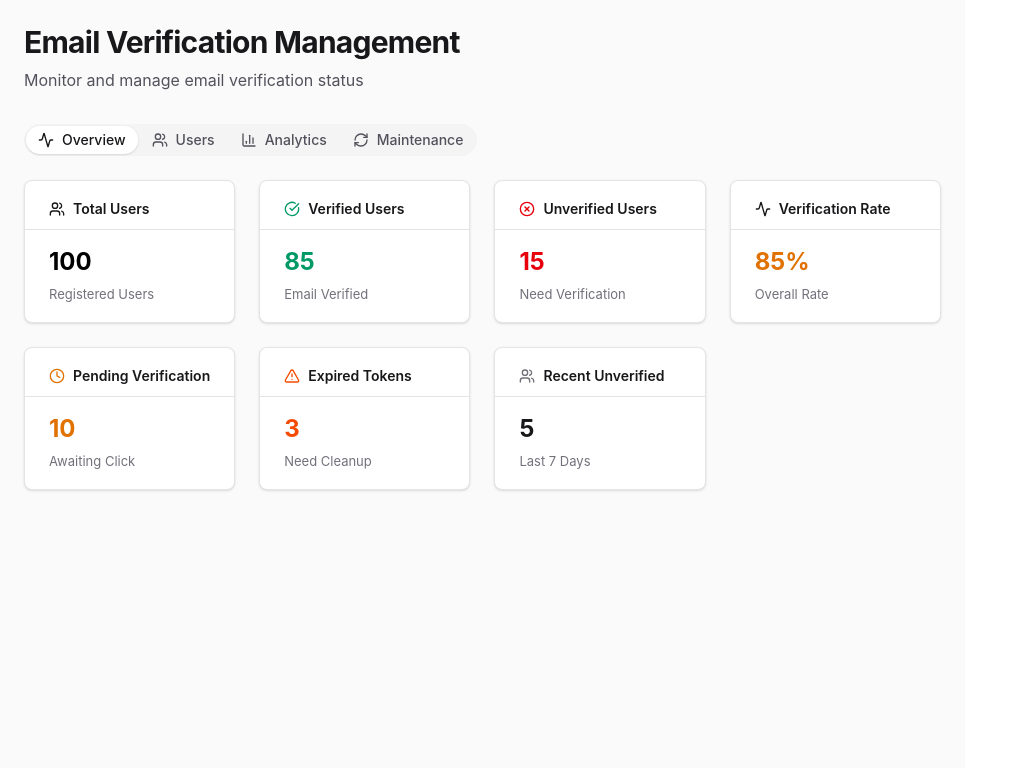
it: EmailVerificationManagement › Users Tab › should handle resend verification API error
Expected: the heading "Total Users" is shown, left=49, top=200, right=149, bottom=217
Click the button "Users".
click(183, 140)  # box left=140, top=126, right=227, bottom=154
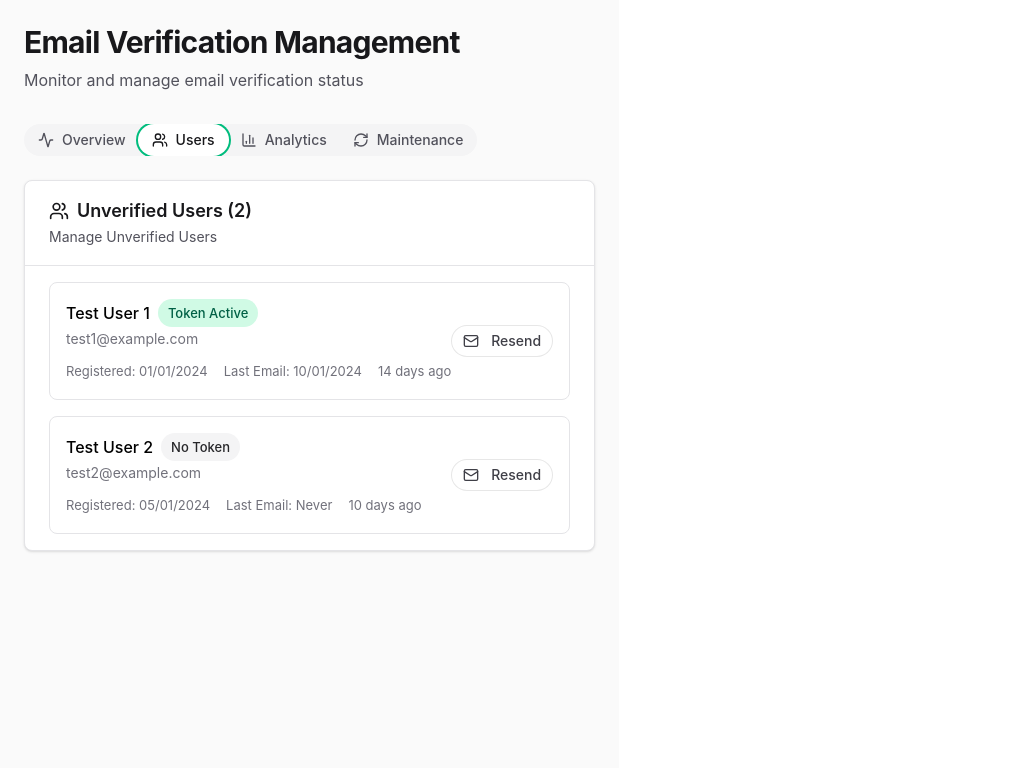
Expected: the heading "Test User 1" is shown, left=66, top=301, right=150, bottom=325
Click the button "Resend" in the row of "test1@example.com".
click(502, 341)  # box left=451, top=325, right=553, bottom=357
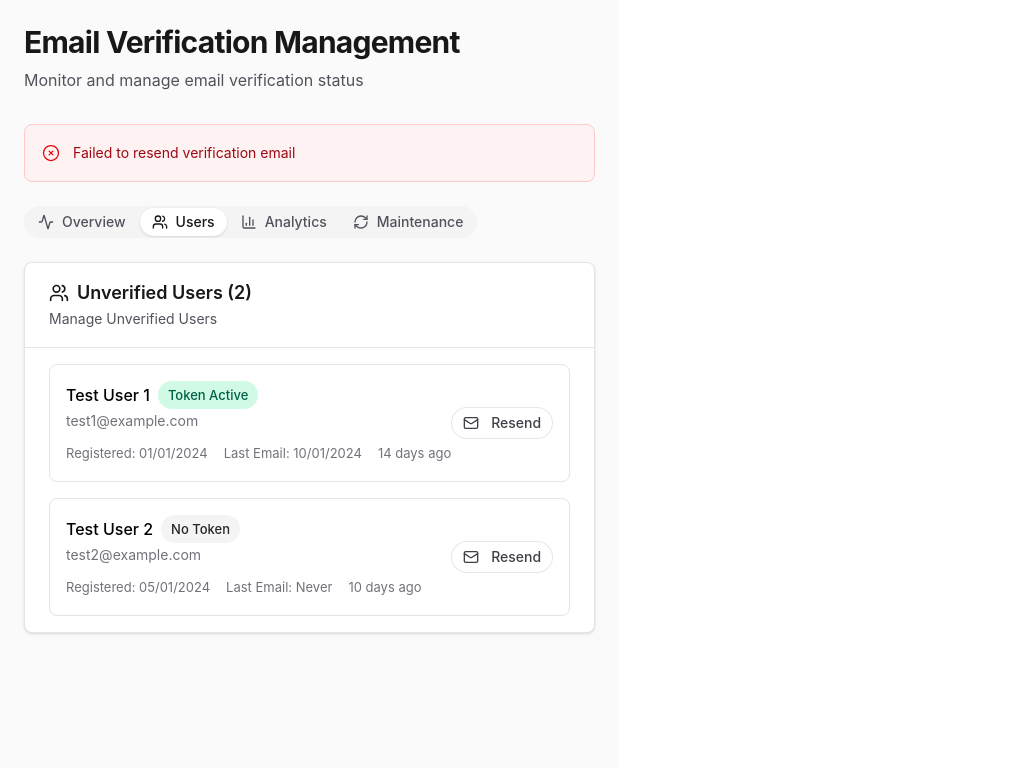
Expected: the text "Failed to resend verification email" is shown, left=73, top=144, right=295, bottom=161
